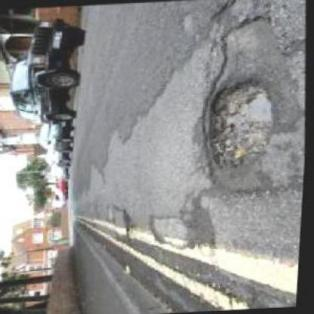Hueco: (198, 76, 282, 174)
